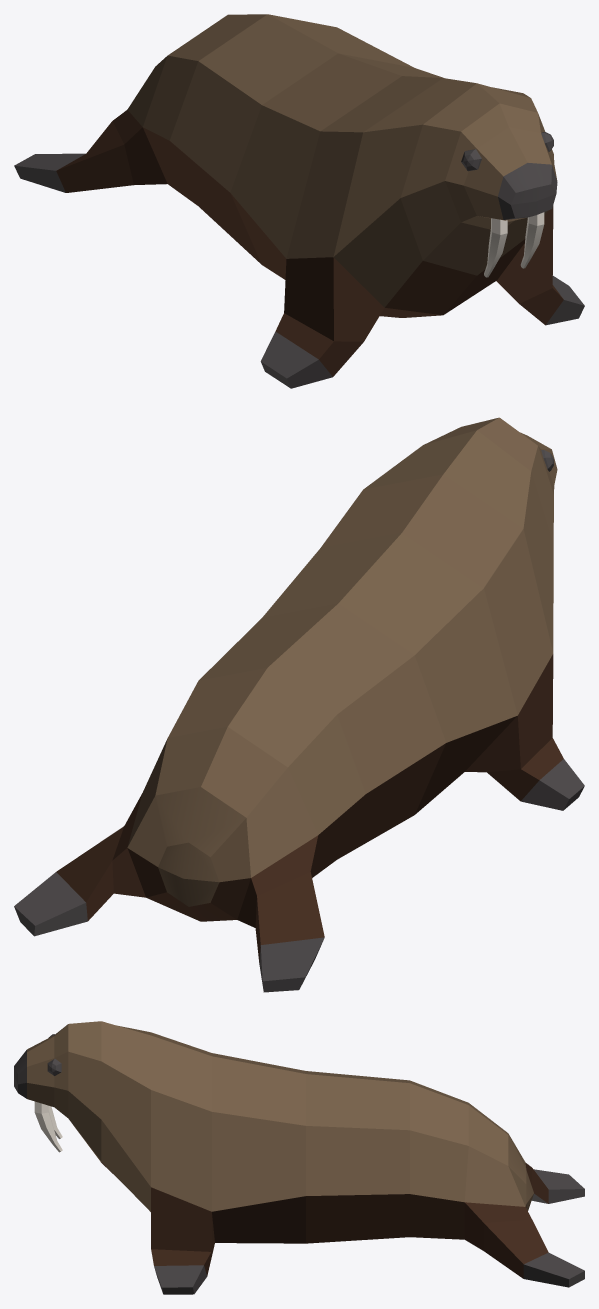
3 views of the same model, one above another, from view 1: azimuth 30°, elevation 25°; view 2: azimuth 150°, elevation 25°; view 3: azimuth 270°, elevation 25° (orthographic). The views are drawn at different scales.
Parts seen in each view (by area): view 1: Geo_Walrus; view 2: Geo_Walrus; view 3: Geo_Walrus.
Part boxes in pixels (x1,y1,x2,y2): Geo_Walrus: [14, 14, 584, 388]; Geo_Walrus: [14, 417, 584, 992]; Geo_Walrus: [14, 1021, 584, 1294].
Bounding box in the file's own units: 132 × 123 × 288.
1 material, 1 textured.
